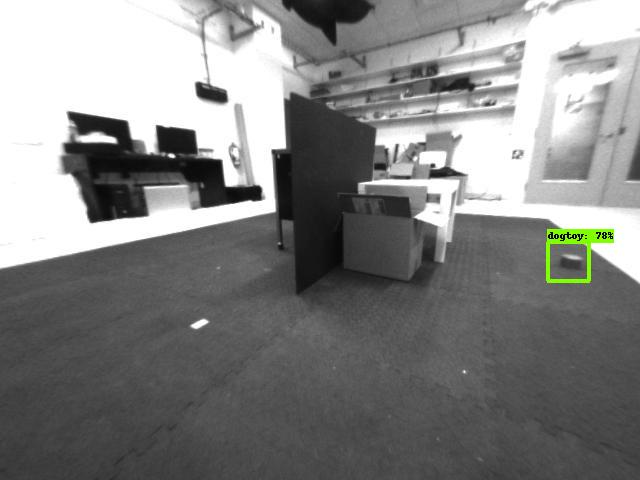dogtoy: (549, 244, 588, 281)
